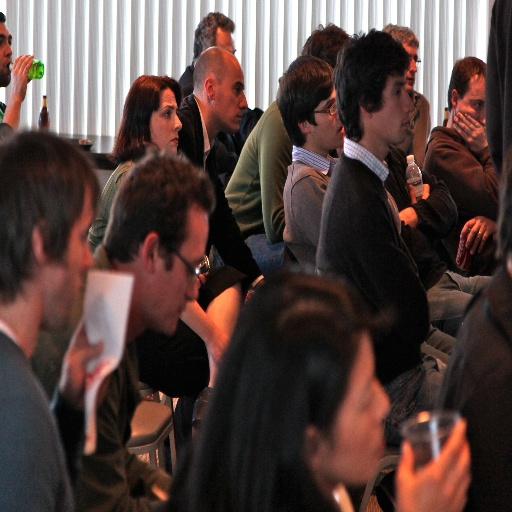hand: (392, 413, 472, 511), (56, 308, 114, 412), (462, 205, 501, 257), (452, 109, 489, 156), (8, 53, 34, 101), (210, 328, 228, 367), (406, 182, 429, 206), (396, 204, 416, 229)
